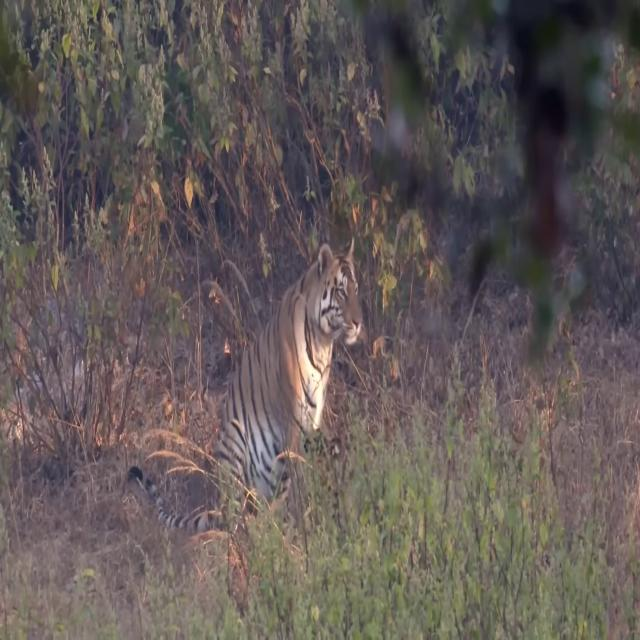tiger: (126, 236, 365, 536)
